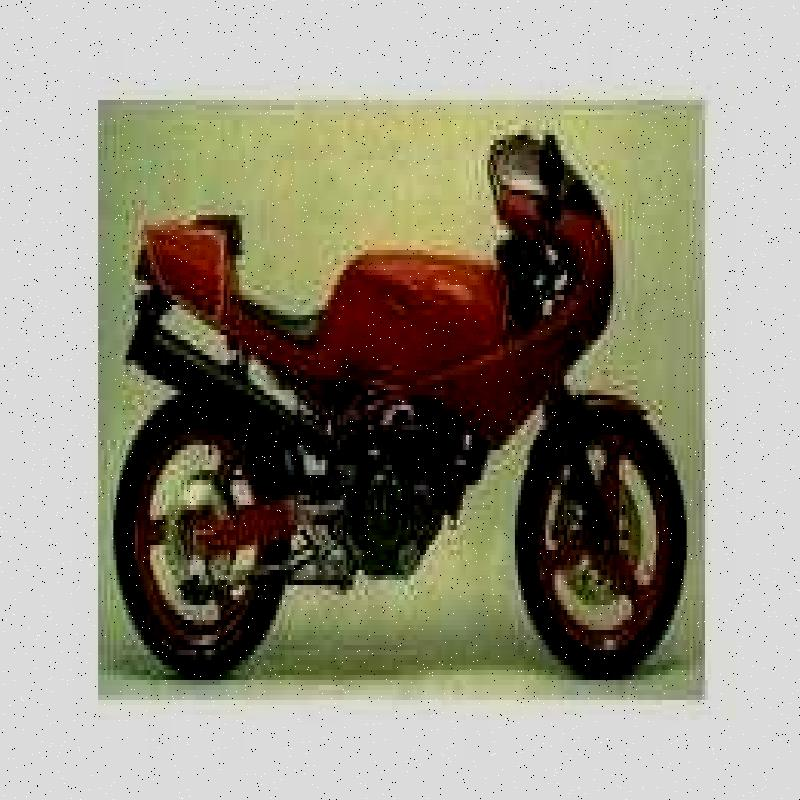bike: (103, 118, 689, 682)
